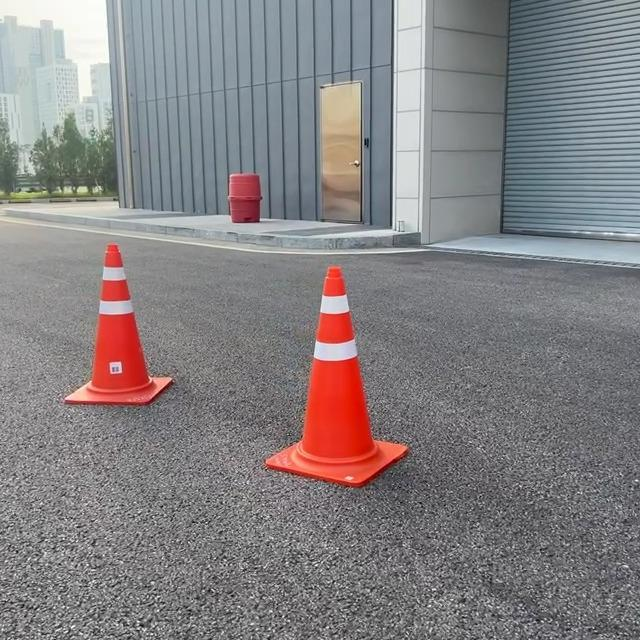fallen_object: (226, 239, 437, 483), (26, 189, 177, 400)
